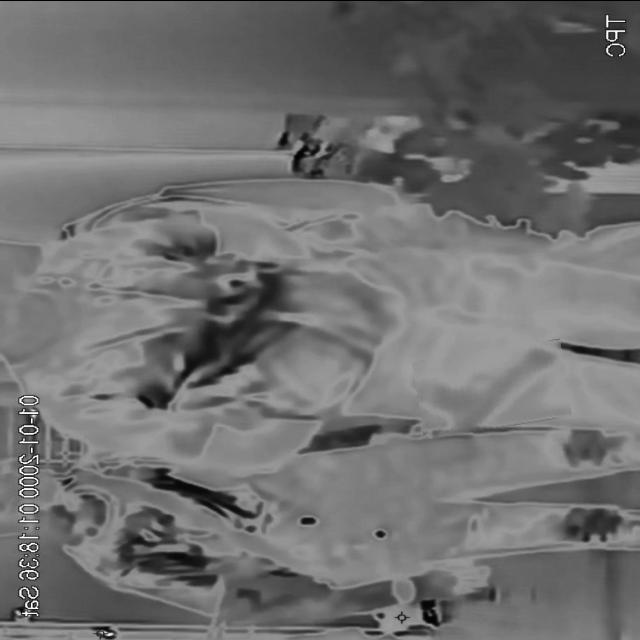Weapon: (414, 342, 570, 432)
